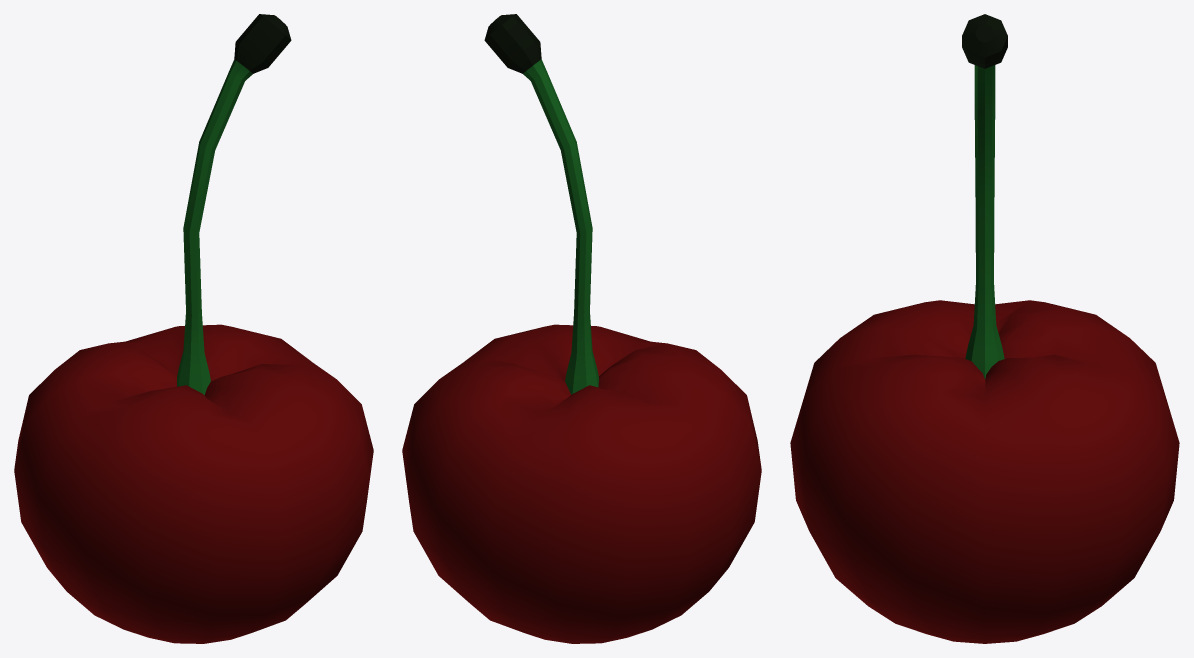
The model's file is Cherry.FBX.
The picture shows the model from 3 angles, left to right: view 1: azimuth 30°, elevation 25°; view 2: azimuth 150°, elevation 25°; view 3: azimuth 270°, elevation 25°; orthographic projection. The views are drawn at different scales.
Parts seen in each view (by area): view 1: Cherry; view 2: Cherry; view 3: Cherry.
Boxes of the visible parts, bbox=[...] form: Cherry: bbox=[14, 14, 373, 643]; Cherry: bbox=[402, 14, 761, 643]; Cherry: bbox=[790, 14, 1179, 643].
Bounding box in the file's own units: 990 × 990 × 1812.
